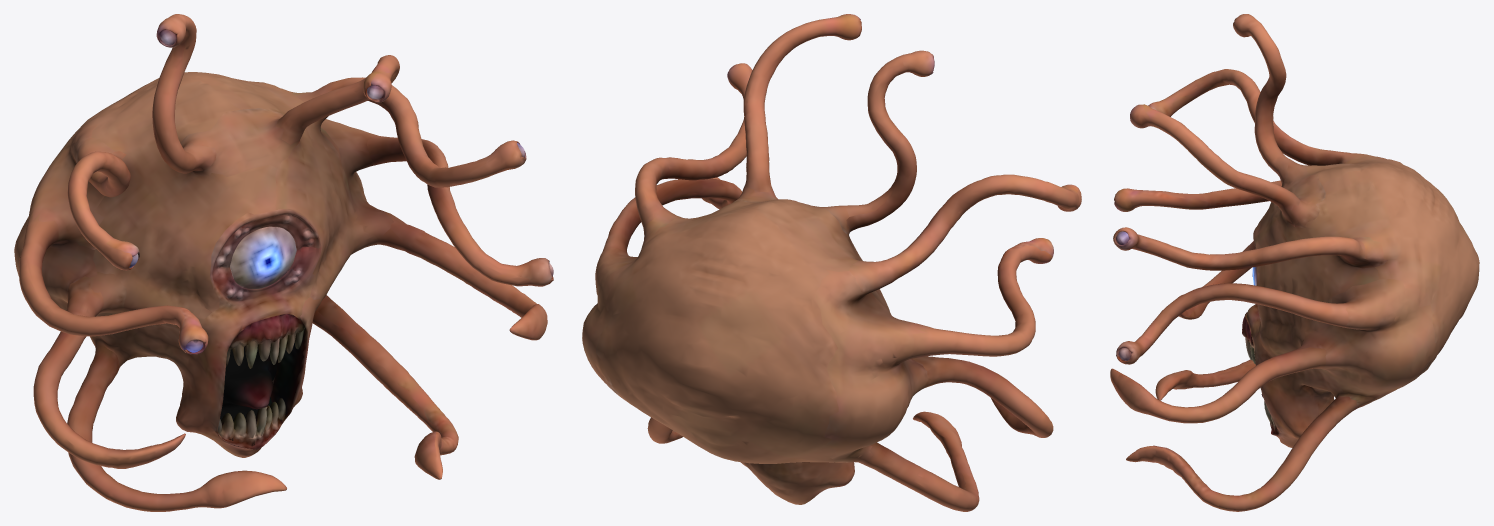
The model's file is MZ4250 - Gauth.glb.
3 renders of one model, left to right at view 1: azimuth 30°, elevation 25°; view 2: azimuth 150°, elevation 25°; view 3: azimuth 270°, elevation 25°, orthographic. The views are drawn at different scales.
Parts seen in each view (by area): view 1: Sphere.001; view 2: Sphere.001; view 3: Sphere.001.
Boxes of the visible parts, x1,y1,x2,y2 form: Sphere.001: (14, 14, 553, 511); Sphere.001: (582, 14, 1081, 511); Sphere.001: (1110, 14, 1479, 511).
Bounding box in the file's own units: 118 × 119 × 102.
Materials: 1 (1 with a texture image).
